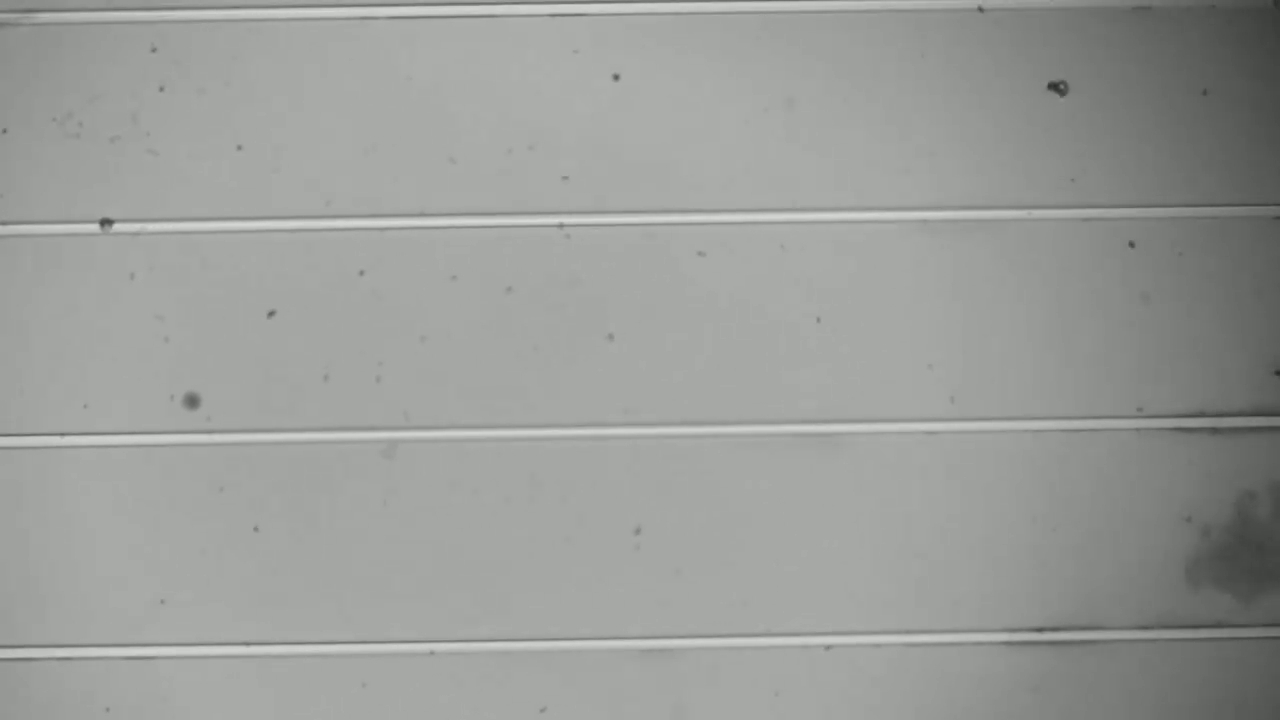stains_enbedded: (95, 211, 119, 241)
